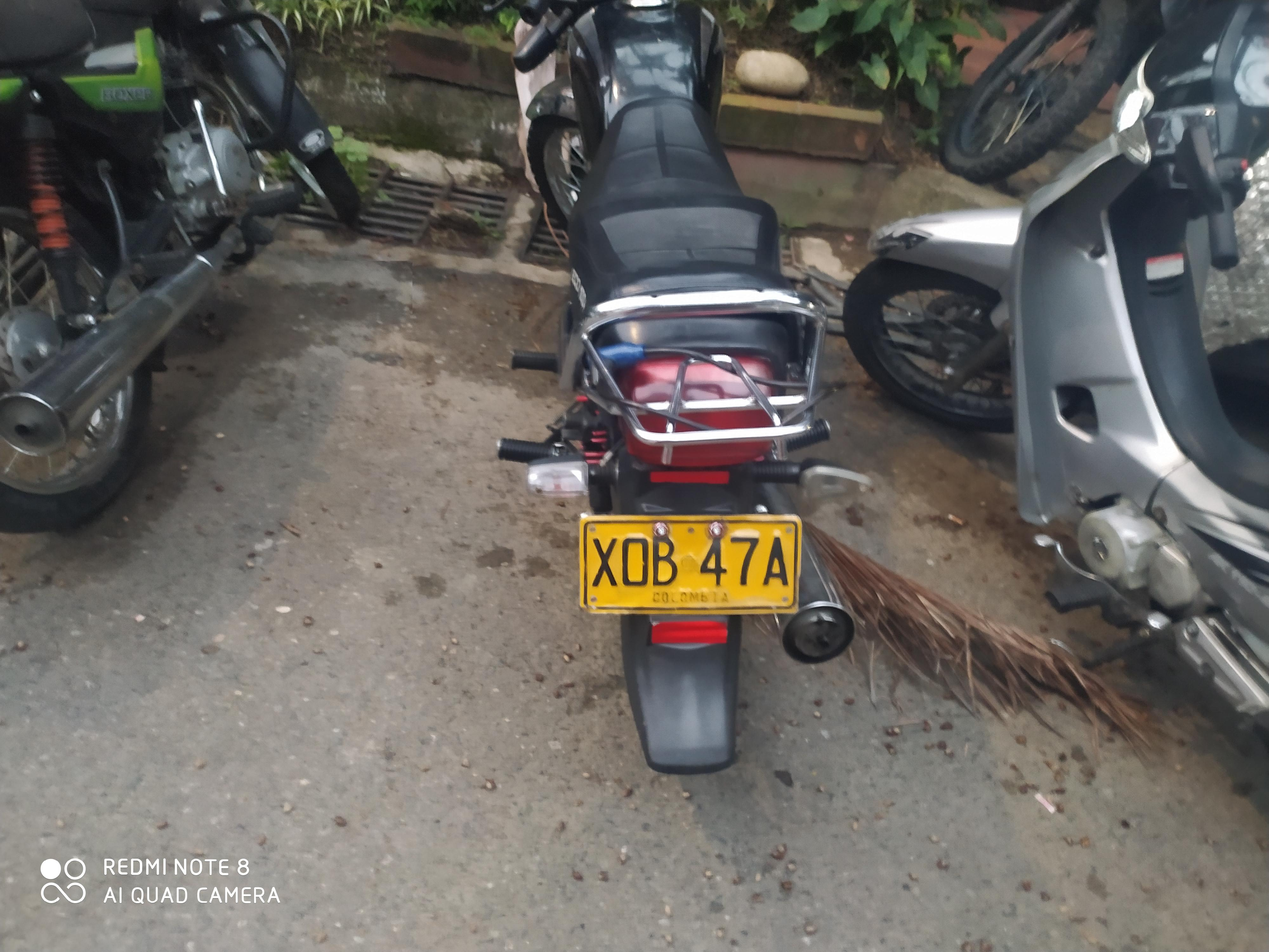placa: (571, 509, 806, 620)
